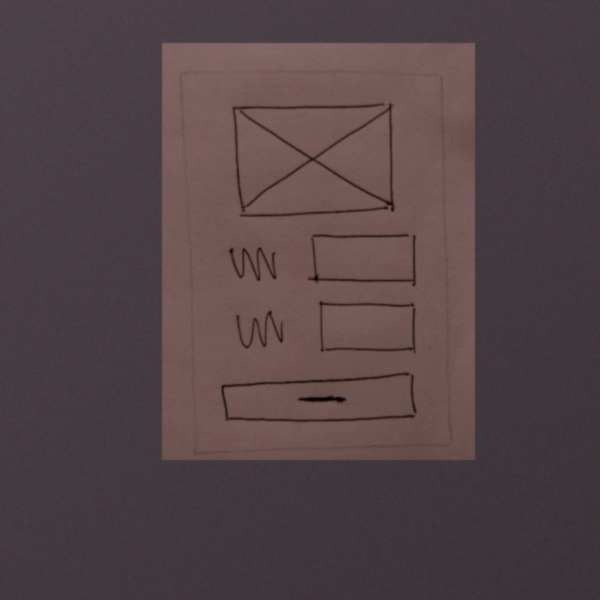button: (211, 369, 429, 429)
image: (219, 99, 406, 219)
text: (218, 239, 288, 289), (220, 308, 295, 353)
text_input: (303, 230, 425, 291), (308, 299, 426, 361)
